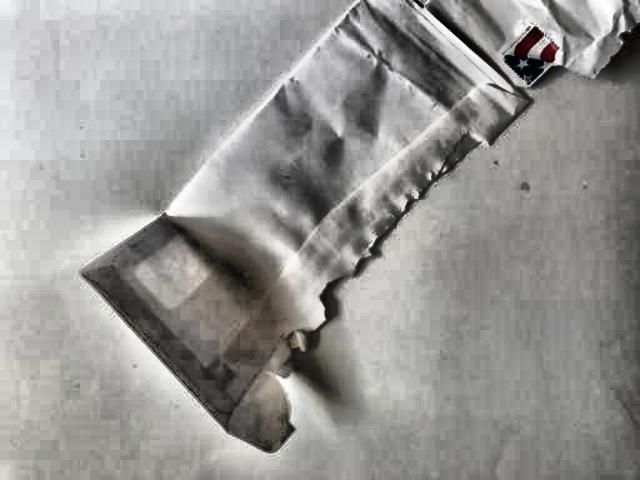Paper: (58, 0, 640, 480)
